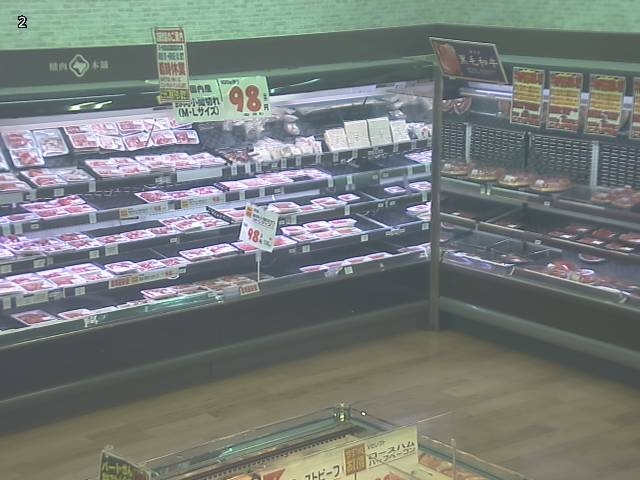meat: (0, 241, 256, 299), (0, 212, 231, 261), (56, 270, 275, 321), (135, 167, 331, 204), (62, 118, 199, 152), (86, 152, 227, 177), (272, 217, 364, 250), (0, 194, 95, 224), (3, 128, 69, 167), (264, 192, 360, 216), (300, 251, 393, 272), (21, 167, 96, 188), (10, 309, 59, 326), (0, 173, 29, 191), (406, 201, 432, 219), (407, 150, 431, 165), (216, 207, 244, 219), (408, 179, 433, 192)
meatless: (0, 230, 429, 331), (44, 101, 427, 167), (88, 231, 238, 264), (316, 153, 419, 176), (352, 206, 420, 232), (160, 174, 254, 191), (84, 220, 161, 238), (82, 190, 146, 210), (352, 183, 397, 200)
